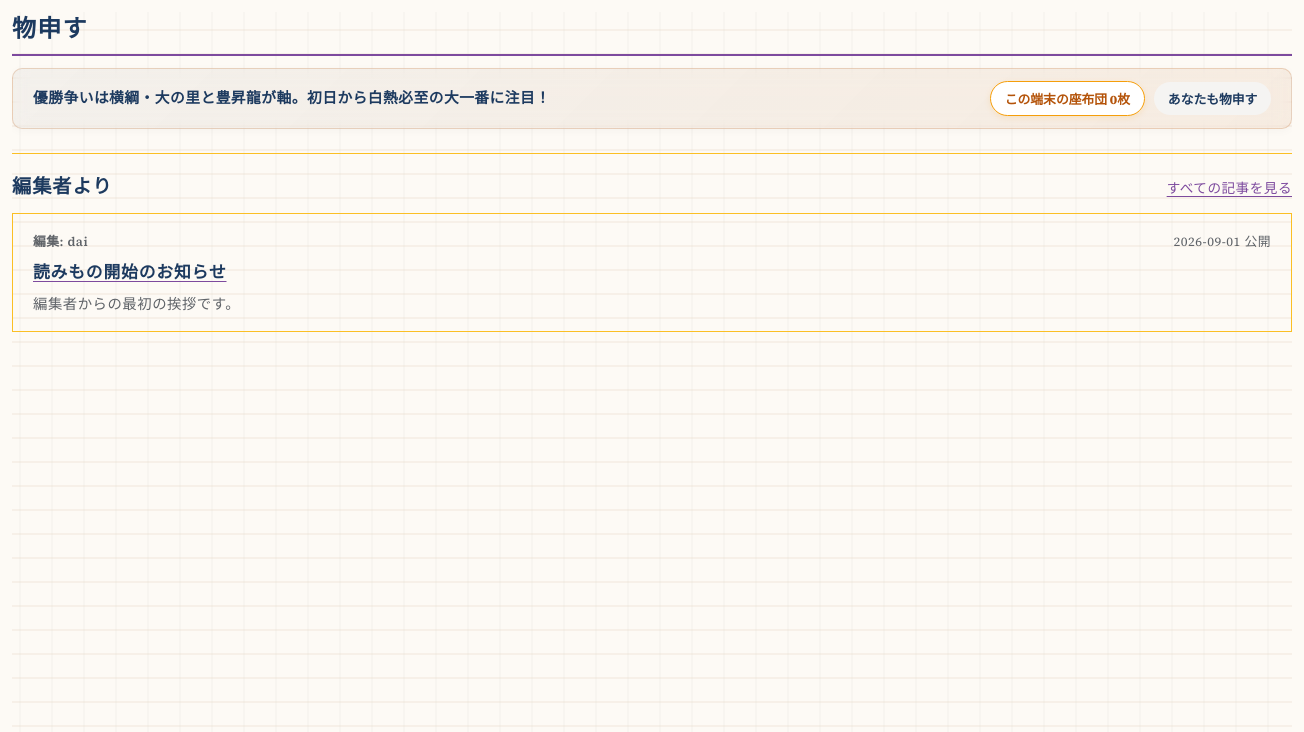
Test case: MonomosuSection › uses the native share sheet with the current page URL when available
Click the button "あなたも物申す" at (1213, 98), box [1154,82,1271,115]
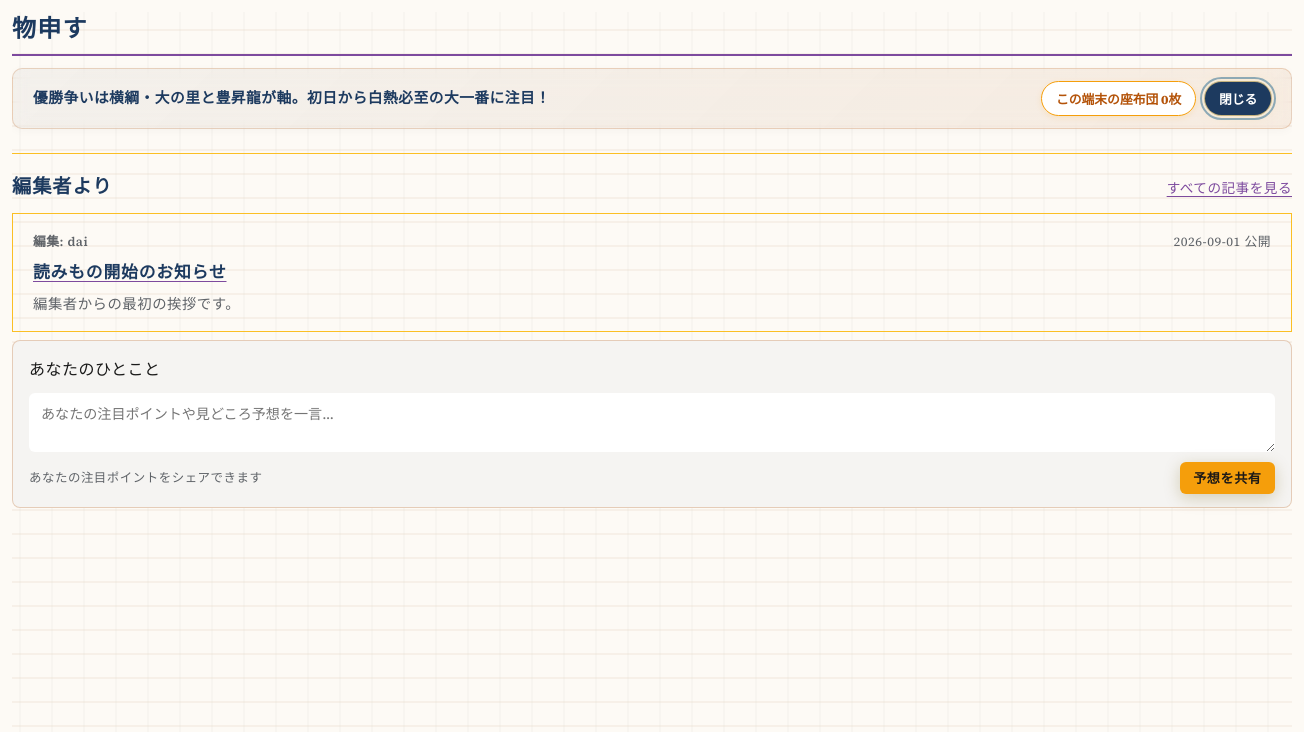
Type "初日の横綱対決に注目" into the text box with placeholder "あなたの注目ポイントや見どころ予想を一言…" at (652, 423), box [29,393,1275,452]
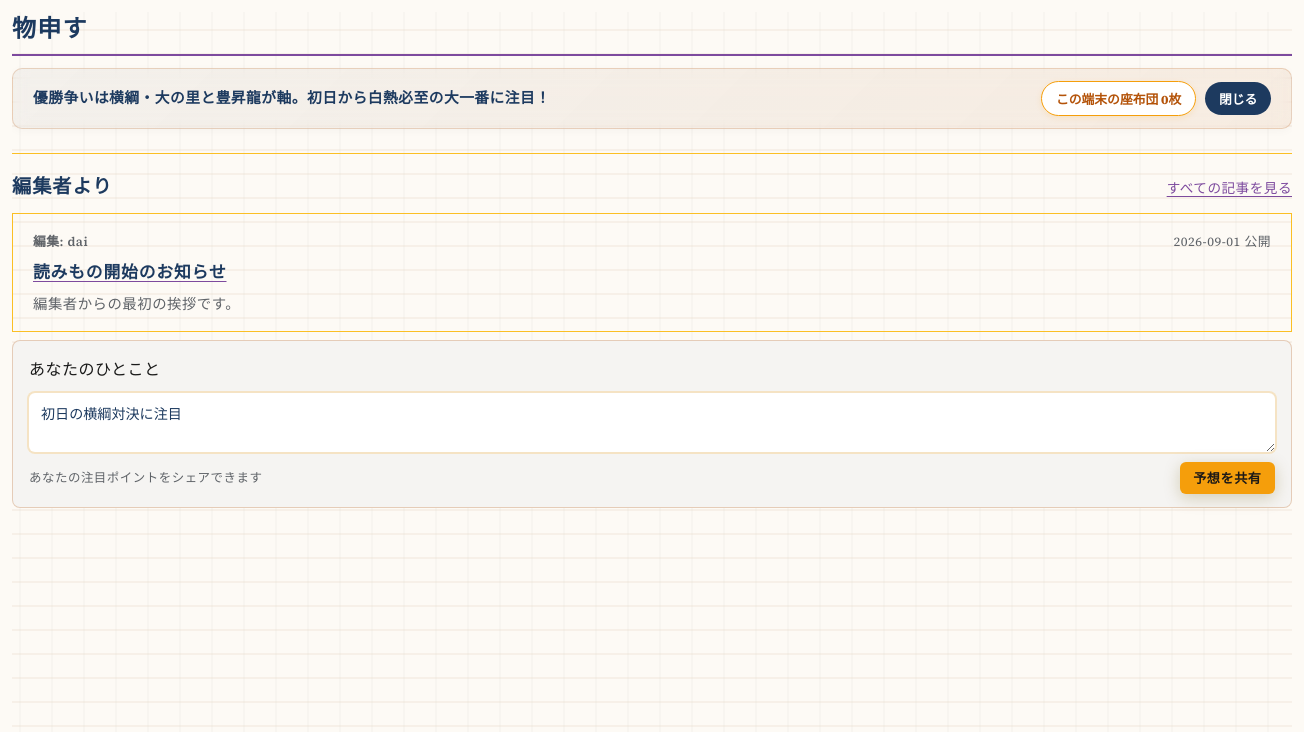
Click the button "予想を共有" at (1227, 478), box [1180,462,1275,494]
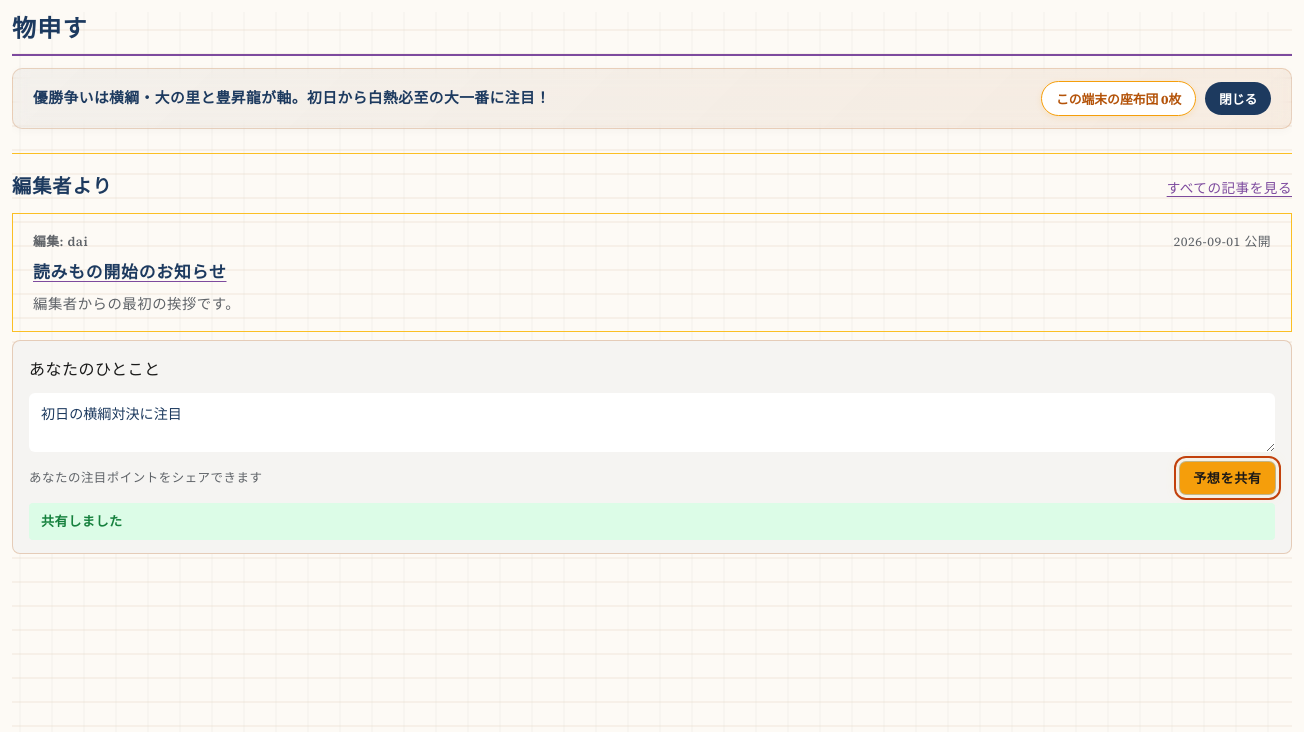
Expected: the message reads "共有しました", [41,512,123,530]
